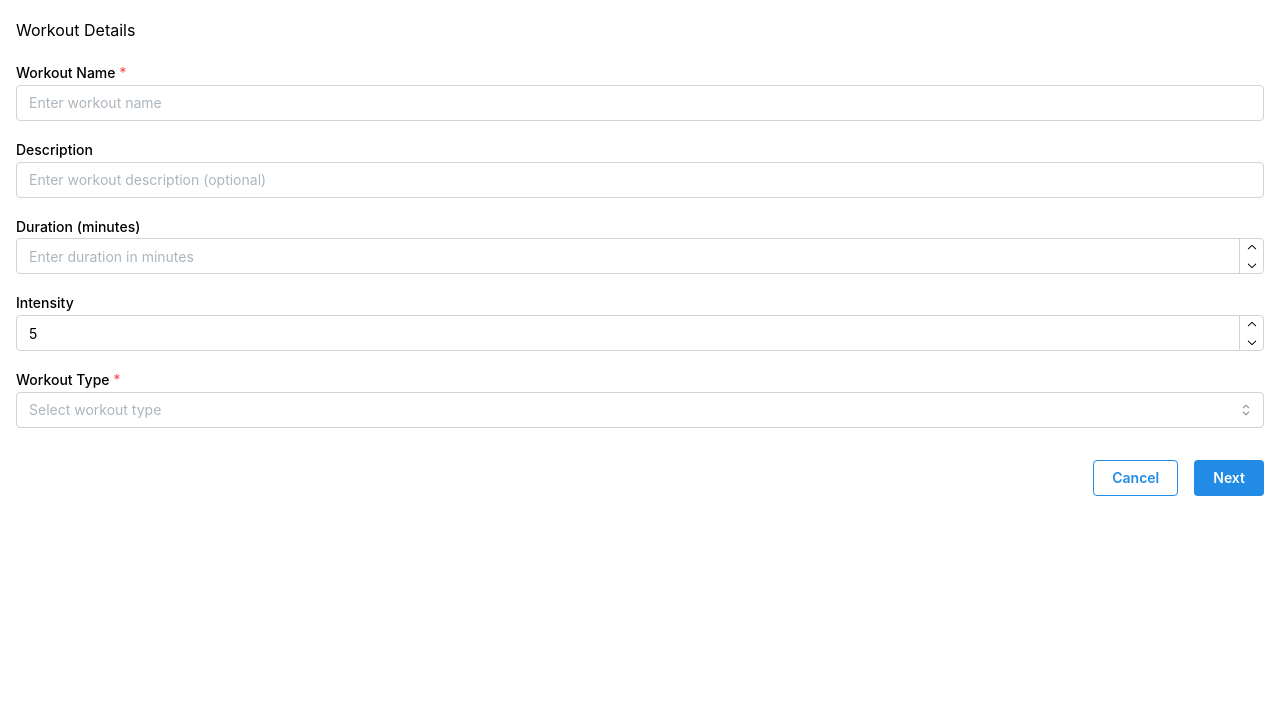
Test case: WorkoutModal › disables Save button when form is invalid
Note: Make the form invalid by clearing the workout name
Clear the field with test id "workout-name-input". click: (640, 103)
box: [16,85,1264,121]
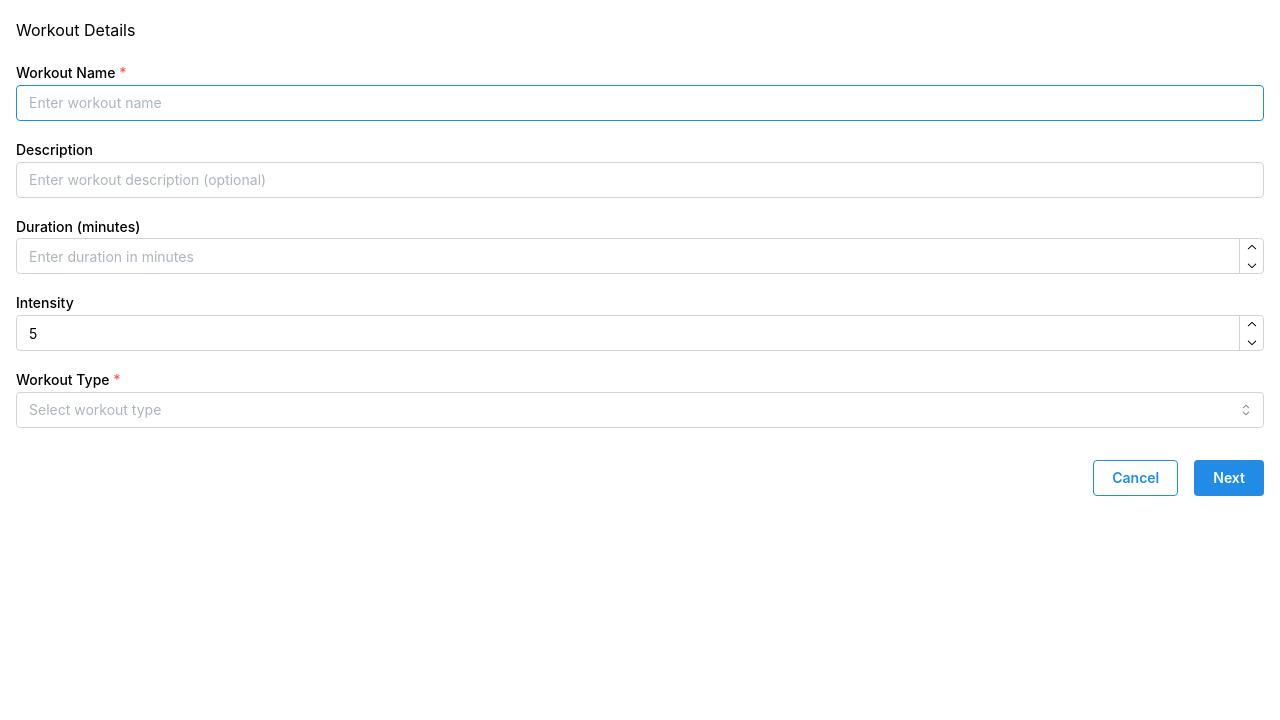
Note: Go to step 2
Click the button with test id "create-next-button". click: (1229, 478)
box: [1194,460,1264,496]
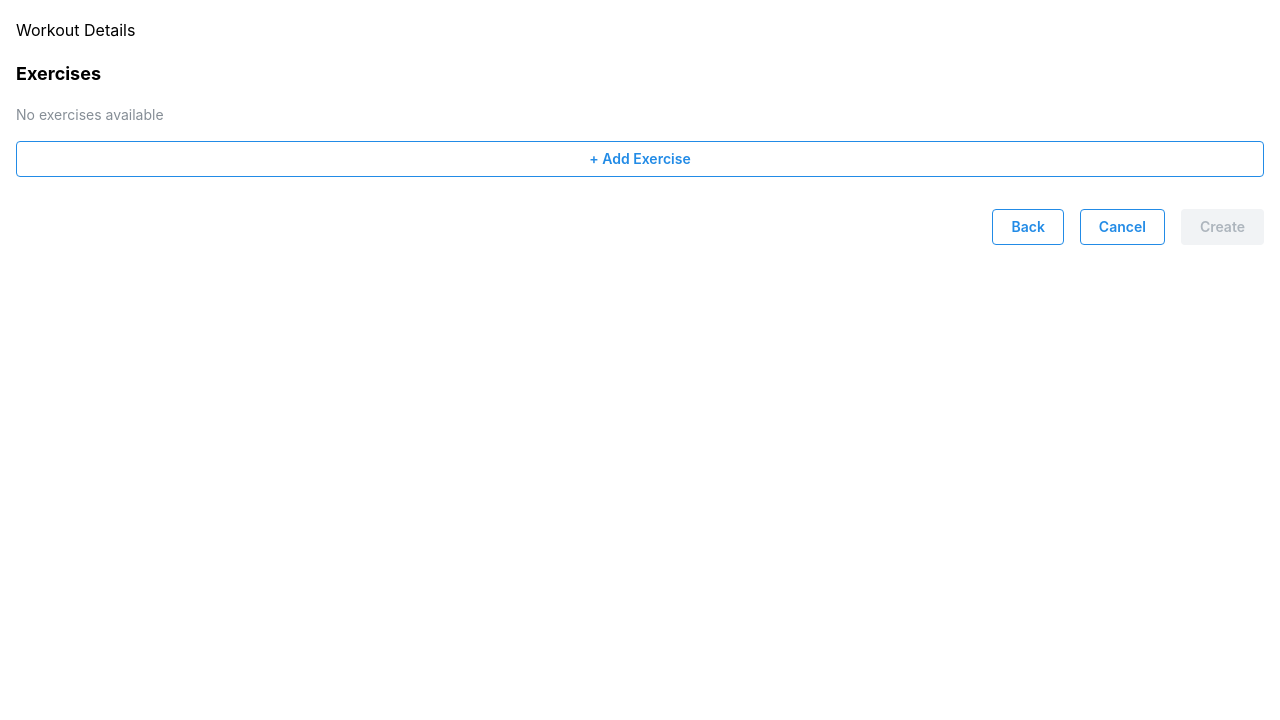
expect the button with test id "create-button" is disabled: met, box [1181,209,1264,245]
